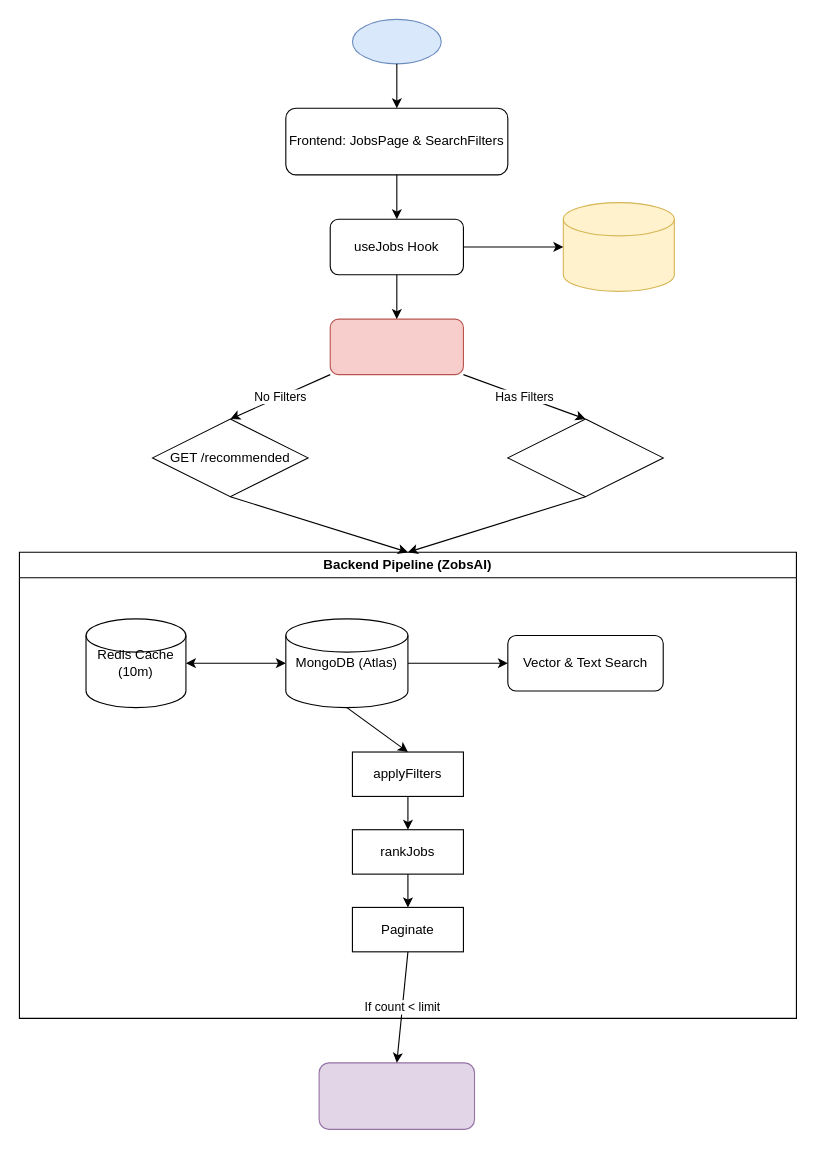
This 816x1149 diagram has some shape labels left out. Each missing label, with the centre of its shape:
"Frontend Local Cache (5m)" goes at pixel 618 246.
"GET /search" goes at pixel 585 457.
"RapidAPI Fallback" goes at pixel 396 1095.
"Redux Saga" goes at pixel 396 346.
"User" goes at pixel 396 41.
